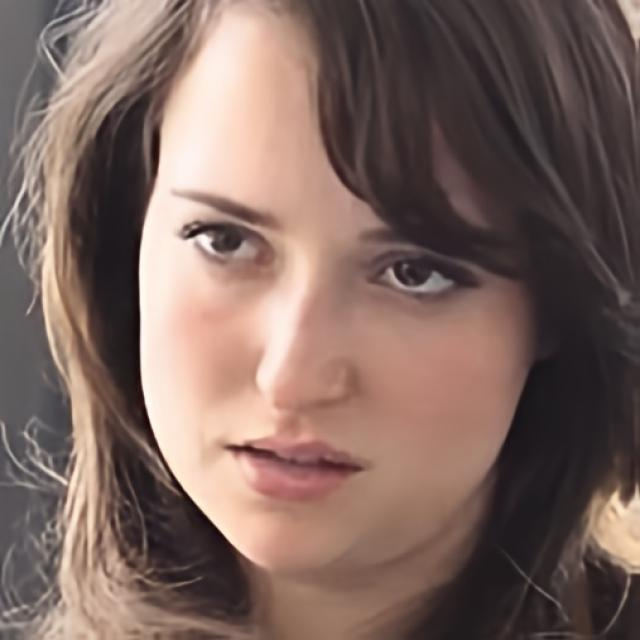anger: (132, 32, 532, 576)
